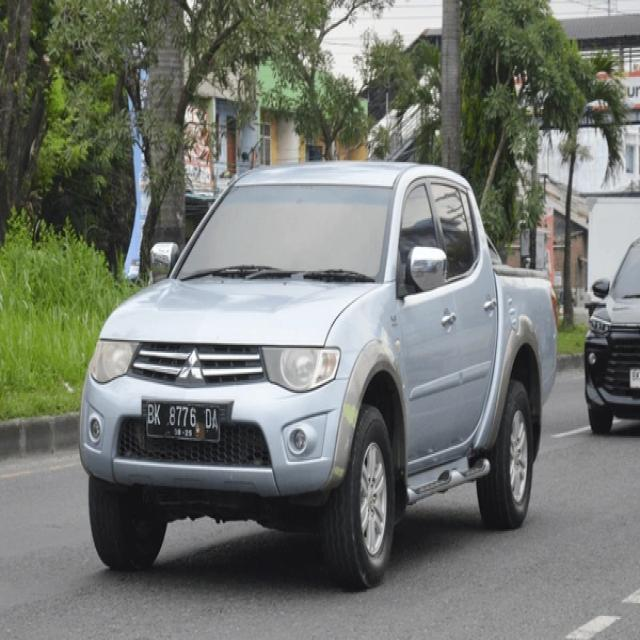mitsubishi: (174, 349, 209, 386)
